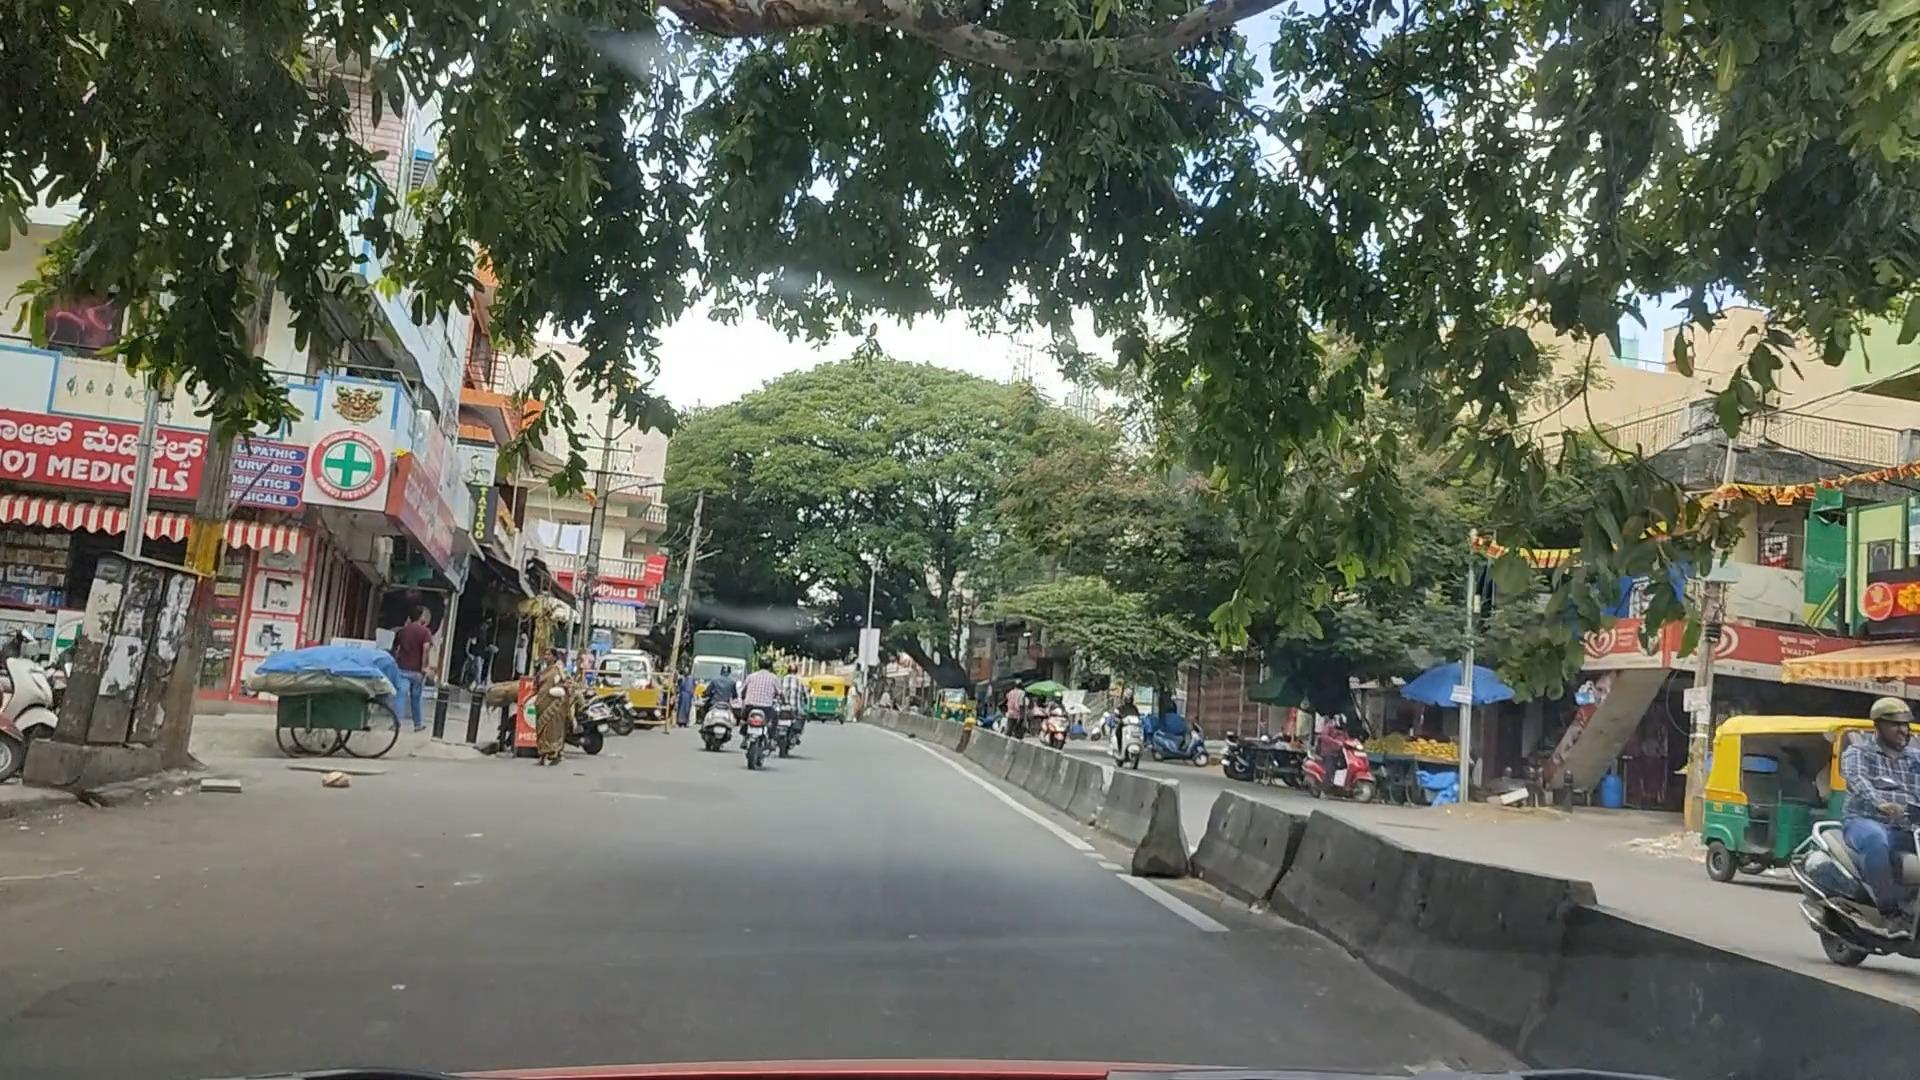RoadDamages: (5, 837, 148, 948)
